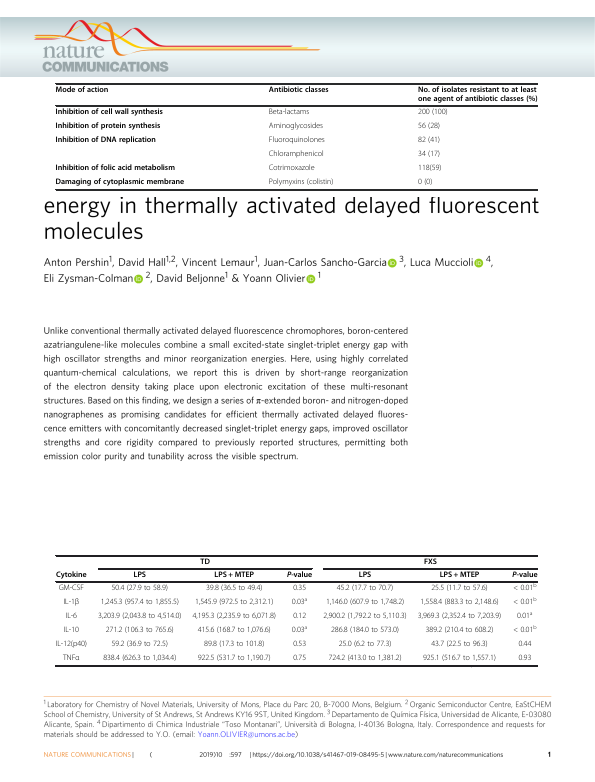borderless: (54, 554, 537, 665), (54, 82, 537, 189)
cell: (417, 86, 538, 104), (55, 178, 185, 188), (55, 164, 176, 174), (55, 108, 164, 118), (55, 122, 161, 132), (55, 136, 157, 146), (191, 612, 277, 622), (322, 612, 408, 622), (97, 612, 182, 622), (417, 612, 502, 622), (100, 598, 180, 608), (194, 598, 274, 608), (325, 598, 405, 608), (419, 598, 499, 608), (197, 626, 272, 636), (102, 654, 177, 664), (197, 654, 272, 664), (327, 654, 402, 664), (422, 654, 497, 664), (105, 626, 175, 636), (330, 626, 400, 636), (424, 626, 494, 636), (268, 178, 334, 188), (203, 640, 265, 650), (110, 584, 169, 594), (430, 584, 489, 594), (110, 640, 169, 650), (430, 640, 489, 650), (268, 136, 326, 146), (205, 584, 263, 594), (336, 584, 394, 594), (268, 122, 324, 132), (268, 150, 324, 160), (268, 86, 330, 95), (338, 640, 392, 650), (55, 86, 109, 95), (268, 164, 315, 174), (268, 108, 310, 118), (213, 571, 255, 581), (439, 571, 480, 581), (55, 640, 88, 650), (55, 571, 87, 581), (417, 108, 448, 118), (512, 583, 537, 594), (512, 597, 537, 608), (512, 625, 537, 636), (286, 571, 313, 581), (511, 571, 538, 581), (58, 584, 85, 594), (417, 164, 442, 174), (417, 122, 441, 132), (417, 136, 441, 146), (417, 150, 441, 160), (291, 597, 308, 608), (516, 611, 533, 622), (291, 625, 308, 636), (62, 598, 80, 608), (62, 654, 80, 664), (63, 626, 80, 636), (417, 178, 433, 188), (132, 571, 147, 581), (292, 584, 307, 594), (292, 612, 307, 622), (292, 640, 307, 650), (517, 640, 532, 650), (292, 654, 307, 664), (517, 654, 532, 664), (358, 571, 372, 581), (64, 612, 78, 622), (423, 558, 438, 567), (199, 558, 211, 567)
